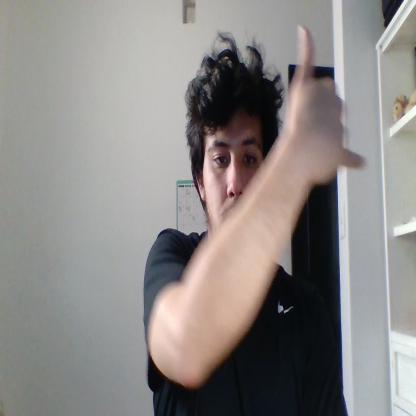Y: (286, 25, 366, 183)
